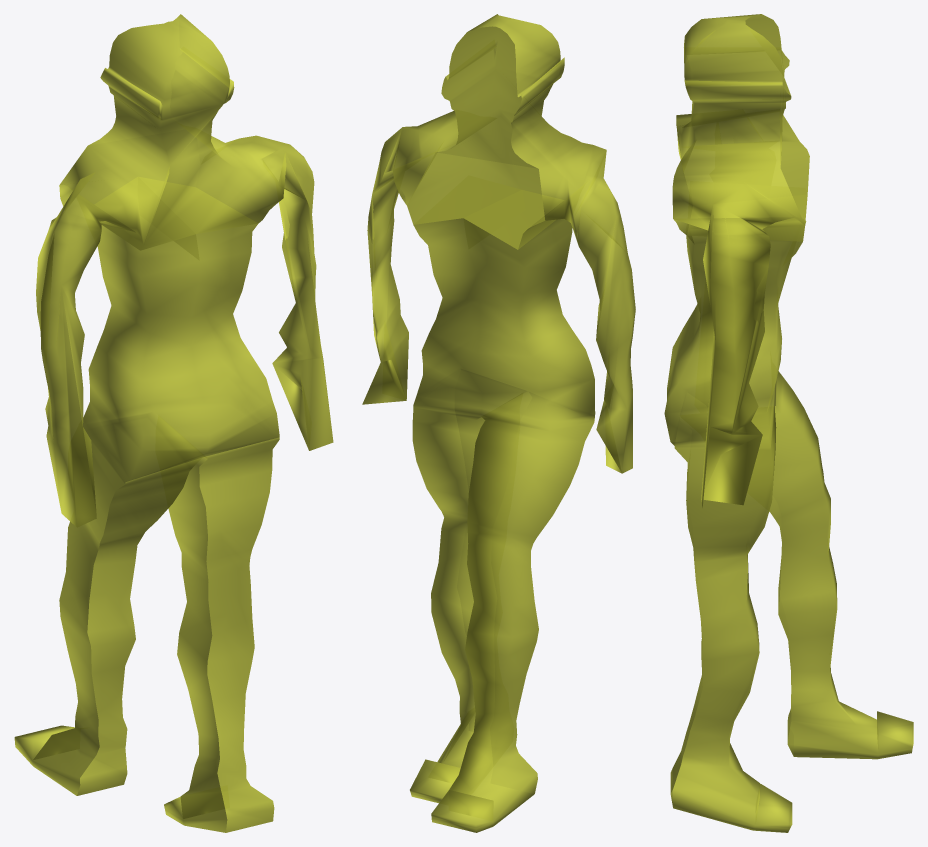
The model's file is woman_000037.obj.
3 renders of one model, left to right at view 1: azimuth 30°, elevation 25°; view 2: azimuth 150°, elevation 25°; view 3: azimuth 270°, elevation 25°, orthographic. The views are drawn at different scales.
Visible parts, largest first — view 1: Cube_Cube.001; view 2: Cube_Cube.001; view 3: Cube_Cube.001.
Part boxes in pixels (bbox=[...]): Cube_Cube.001: bbox=[14, 14, 333, 832]; Cube_Cube.001: bbox=[362, 14, 635, 832]; Cube_Cube.001: bbox=[664, 14, 913, 832].
Bounding box in the file's own units: 3.62 × 10.14 × 2.93.
